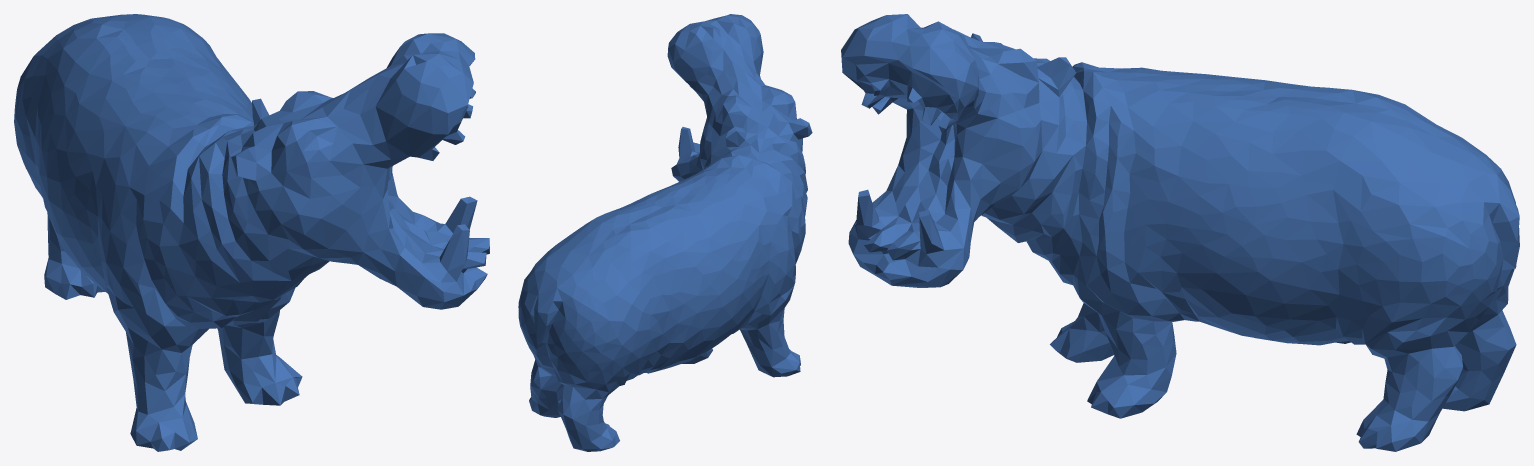
Rendered from bigmouth.obj.
The picture shows the model from 3 angles, left to right: view 1: azimuth 30°, elevation 25°; view 2: azimuth 150°, elevation 25°; view 3: azimuth 270°, elevation 25°; orthographic projection. The views are drawn at different scales.
Visible parts, largest first — view 1: Model; view 2: Model; view 3: Model.
Part boxes in pixels (x1,y1,x2,y2): Model: (14, 14, 489, 451); Model: (518, 14, 812, 451); Model: (841, 14, 1519, 451).
Bounding box in the file's own units: 0.4484 × 0.6708 × 0.9847.
